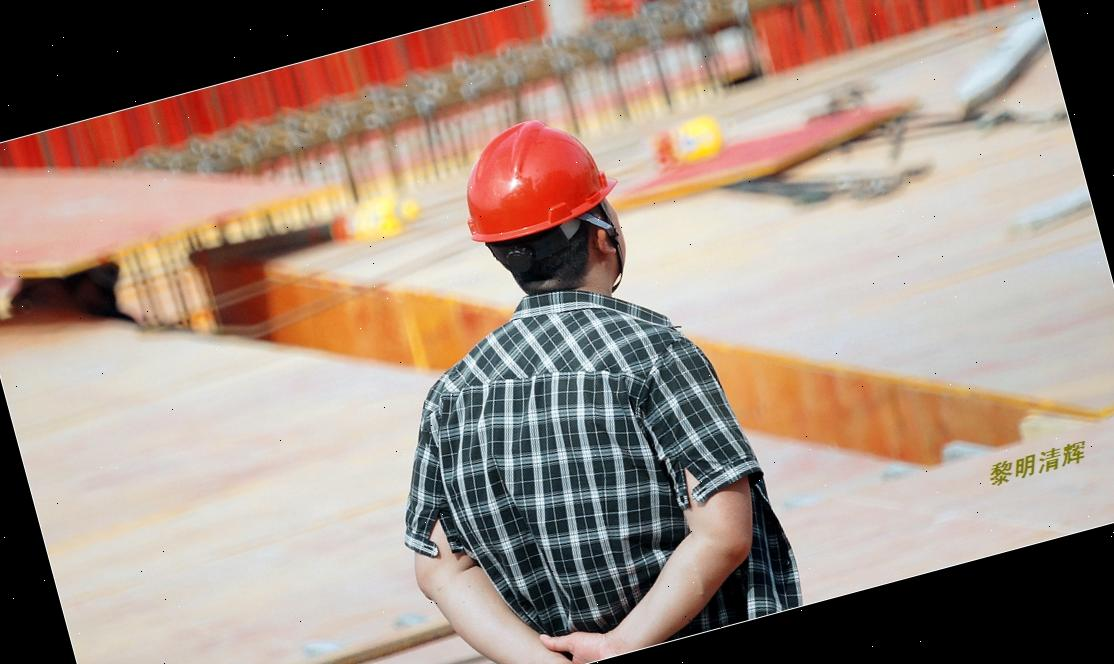helmet: (442, 105, 628, 260)
no_wear: (412, 302, 749, 664)
